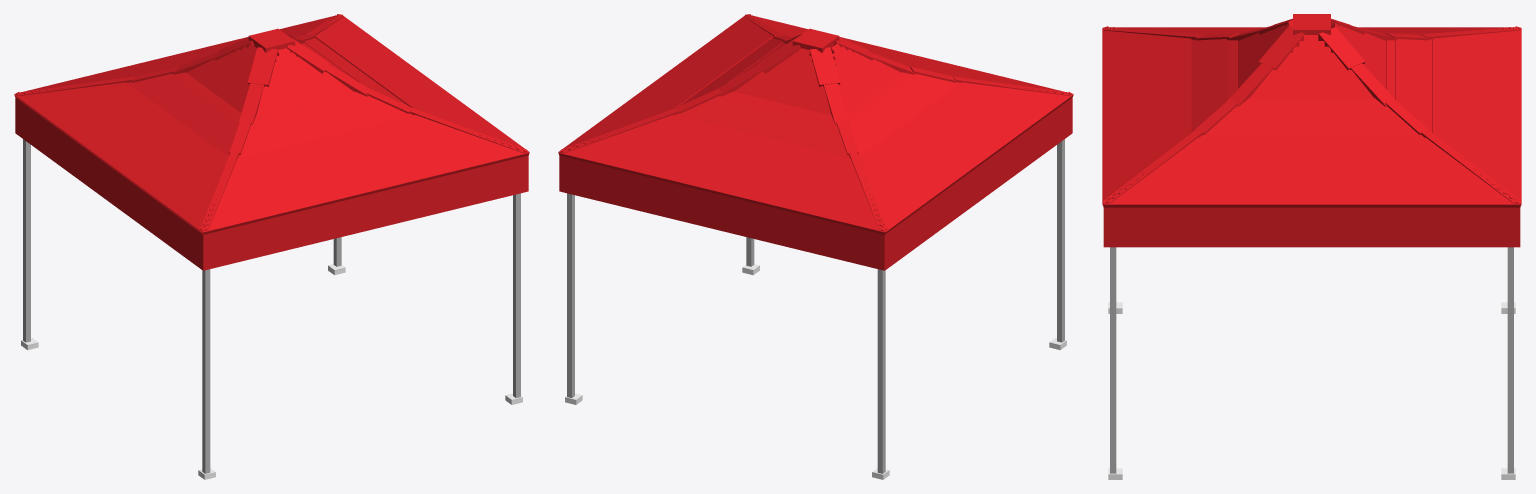
The model's file is tent_red.obj.
3 views of the same model, side by side, from view 1: azimuth 30°, elevation 25°; view 2: azimuth 150°, elevation 25°; view 3: azimuth 270°, elevation 25° (orthographic). The views are drawn at different scales.
Visible parts, largest first — view 1: text3, text2, cube1.004, stem3, cube1.005, stem4, stem1, cube2.004, cube3.004, cube4.004, cube5.000, cube6.000 (+48 smaller); view 2: text1, text2, cube1.003, stem1, cube1.005, stem2, stem3, cube2.003, cube3.003, cube4.003, cube5, cube6 (+48 smaller); view 3: text0, cube1.006, cube2.006, cube3.006, cube4.006, cube5.002, cube6.002, cube7.002, cube8.002, stem2, stem4, cube13.002 (+71 smaller).
Boxes of the visible parts, x1,y1,x2,y2 form: text3: [208, 157, 523, 269]; text2: [15, 98, 207, 270]; cube1.004: [200, 149, 529, 235]; stem3: [202, 269, 210, 473]; cube1.005: [14, 92, 206, 235]; stem4: [513, 193, 520, 397]; stem1: [23, 139, 30, 342]; cube2.004: [203, 146, 521, 227]; cube3.004: [205, 144, 513, 222]; cube4.004: [208, 141, 505, 216]; cube5.000: [210, 139, 497, 211]; cube6.000: [212, 136, 489, 206]; text1: [564, 157, 879, 269]; text2: [880, 98, 1072, 270]; cube1.003: [558, 149, 886, 235]; stem1: [877, 269, 885, 473]; cube1.005: [881, 92, 1073, 235]; stem2: [567, 193, 574, 397]; stem3: [1057, 139, 1064, 342]; cube2.003: [566, 146, 884, 227]; cube3.003: [574, 144, 882, 222]; cube4.003: [582, 141, 879, 216]; cube5: [590, 139, 877, 211]; cube6: [598, 136, 875, 206]; text0: [1103, 207, 1520, 247]; cube1.006: [1103, 200, 1520, 207]; cube2.006: [1110, 196, 1513, 200]; cube3.006: [1116, 191, 1507, 195]; cube4.006: [1122, 187, 1501, 191]; cube5.002: [1129, 182, 1494, 186]; cube6.002: [1135, 178, 1488, 182]; cube7.002: [1141, 173, 1482, 177]; cube8.002: [1148, 169, 1475, 173]; stem2: [1507, 247, 1513, 473]; stem4: [1110, 247, 1116, 473]; cube13.002: [1180, 146, 1443, 151].
Bounding box in the file's own units: 3.74 × 3.66 × 3.74.
